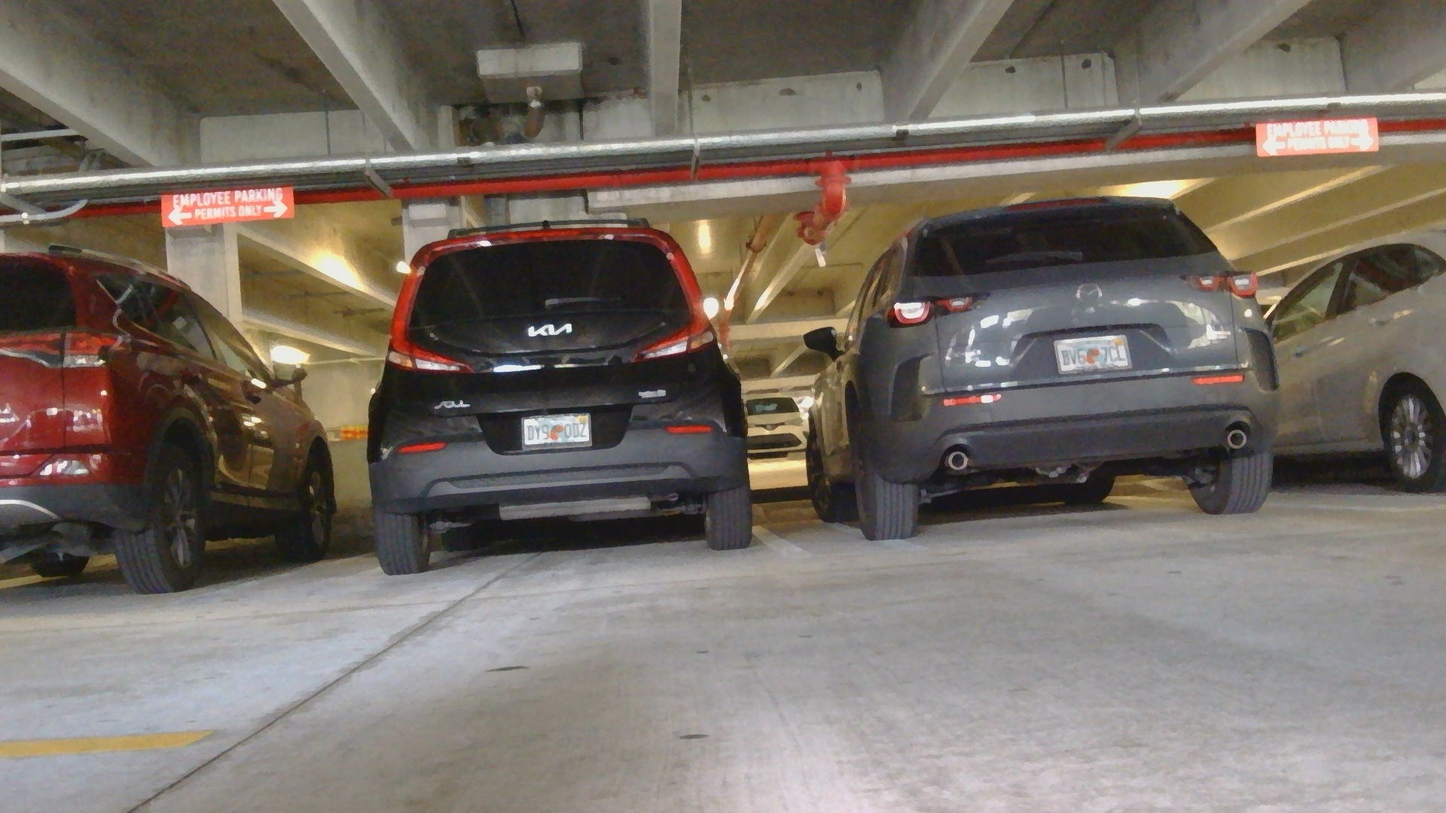occupied_spot: (780, 169, 1297, 554), (330, 206, 774, 589), (0, 241, 334, 593), (1266, 220, 1445, 494)
